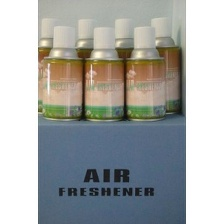aerosol_cans: (79, 24, 130, 124), (120, 23, 168, 124), (39, 23, 86, 124), (140, 13, 185, 117)
